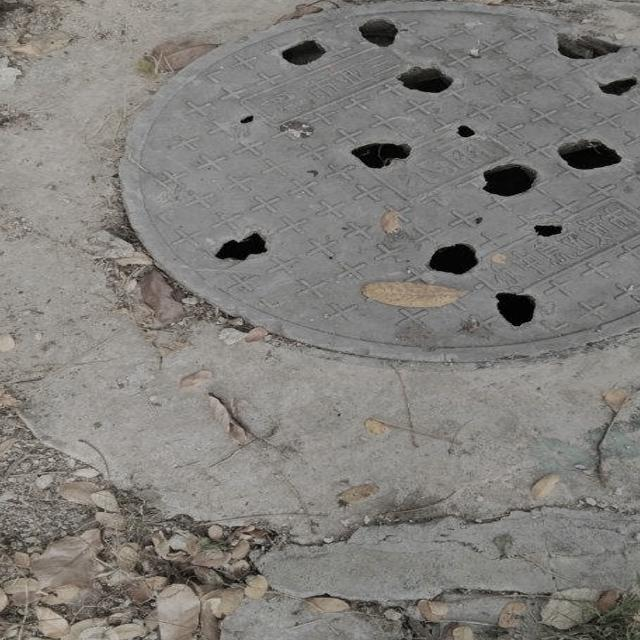broke: (119, 0, 640, 360)
